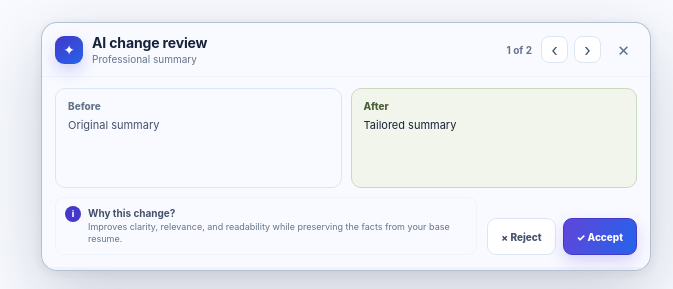
Scenario: ChangeAudit review controls › advances after accepting and closes after accepting the final change
Click the button "✓ Accept" at (600, 236), box x1=562 y1=218 x2=637 y2=255
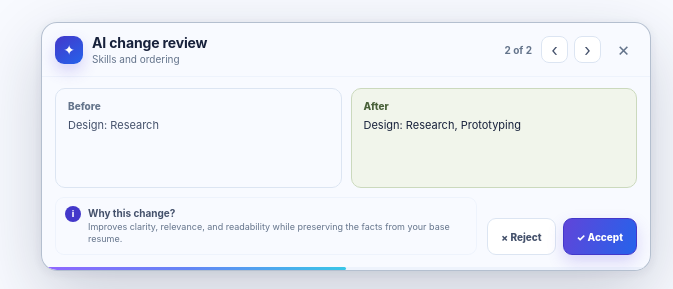
Now the text "2 of 2" is shown, box x1=504 y1=44 x2=532 y2=56
Click the button "✓ Accept" at (600, 236), box x1=562 y1=218 x2=637 y2=255
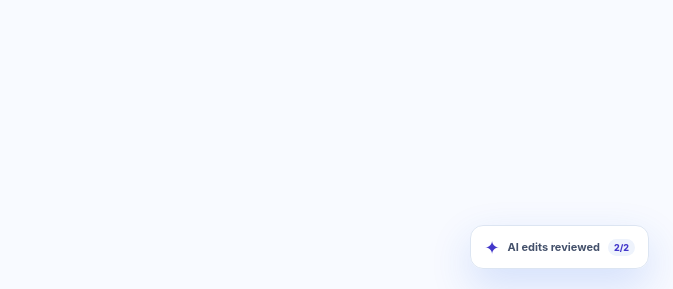
Now the text "AI edits reviewed" is shown, box x1=508 y1=240 x2=600 y2=254
Now the text "2/2" is shown, box x1=608 y1=238 x2=635 y2=256
Now the text "Why this change?" is gone
